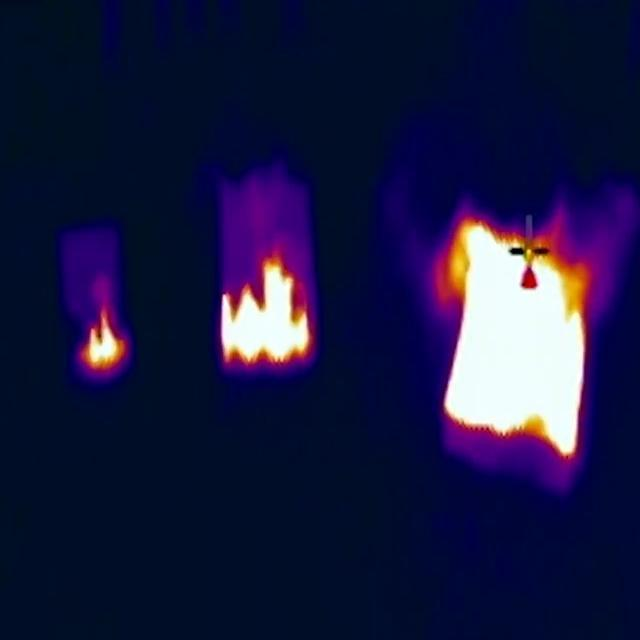fire: (443, 213, 591, 466), (221, 253, 315, 373), (84, 306, 127, 381)
